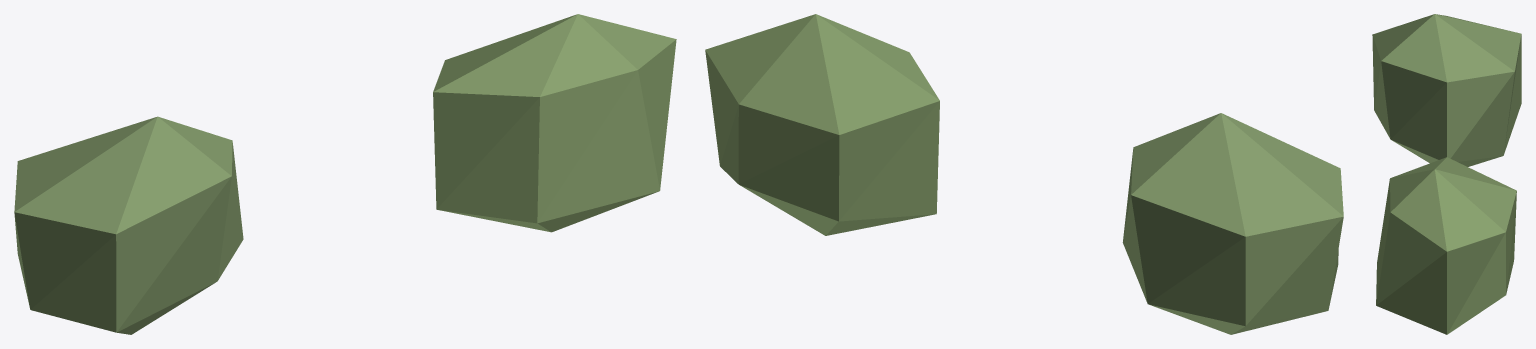
3 renders of one model, left to right at view 1: azimuth 30°, elevation 25°; view 2: azimuth 150°, elevation 25°; view 3: azimuth 270°, elevation 25°, orthographic. The views are drawn at different scales.
Bounding box in the file's own units: 4.73 × 1.5 × 1.22.
